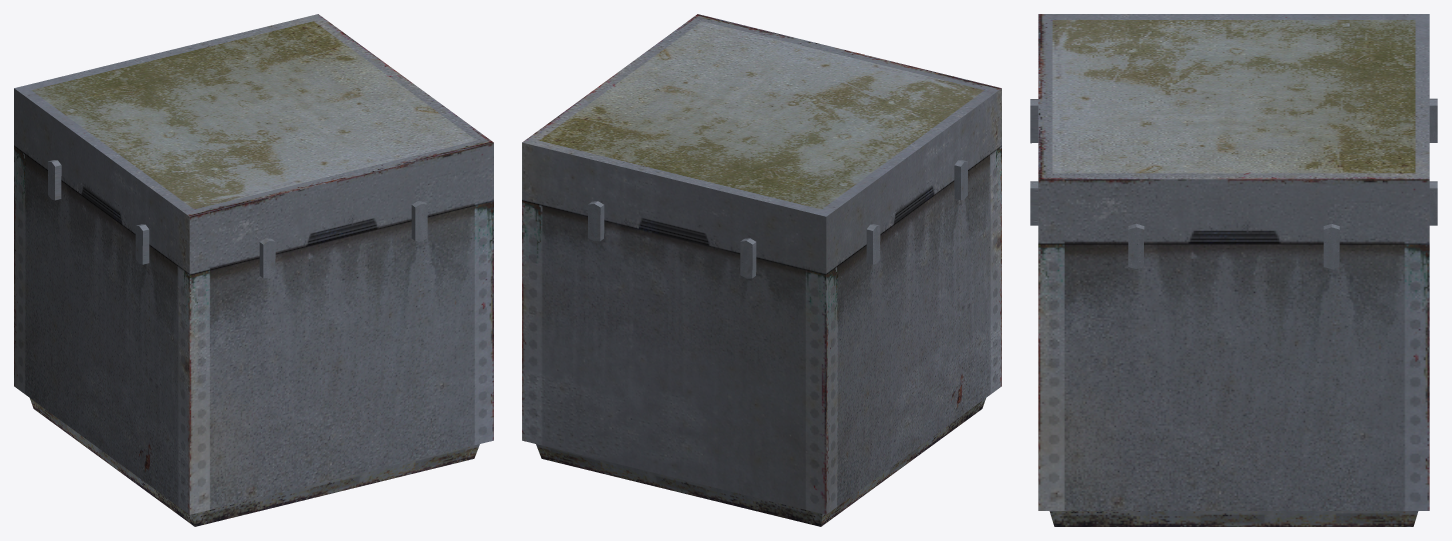
File: other_metalcrate01.dae
3 renders of one model, left to right at view 1: azimuth 30°, elevation 25°; view 2: azimuth 150°, elevation 25°; view 3: azimuth 270°, elevation 25°, orthographic. The views are drawn at different scales.
Visible parts, largest first — view 1: metalcrate01; view 2: metalcrate01; view 3: metalcrate01.
Part boxes in pixels (x1,y1,x2,y2): metalcrate01: (14, 14, 493, 526); metalcrate01: (522, 14, 1001, 526); metalcrate01: (1030, 14, 1437, 526).
Size of what is drawn, in the model's own units: 1.04 by 1 by 1.04.
